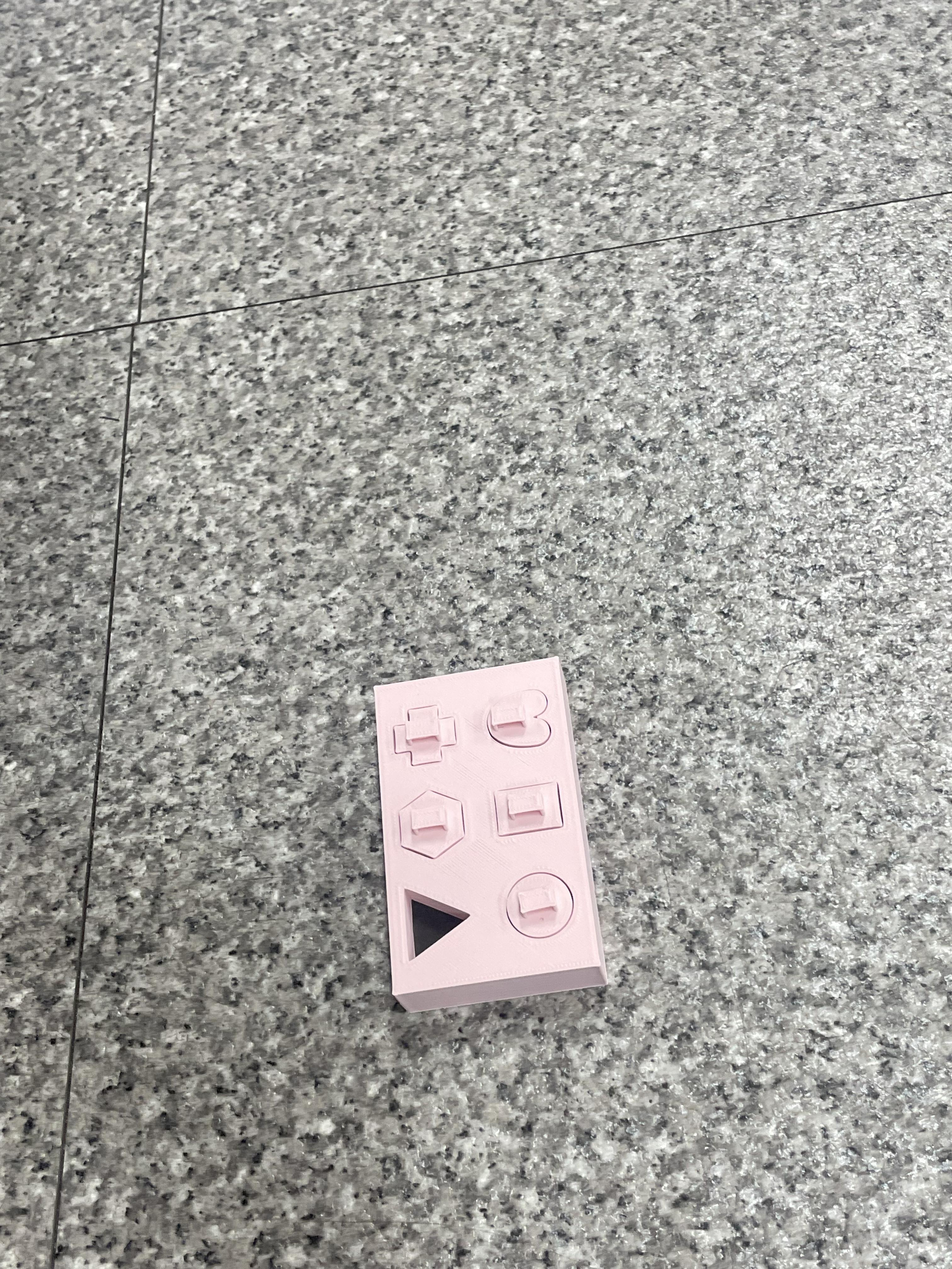unsolved: (362, 643, 629, 1021)
